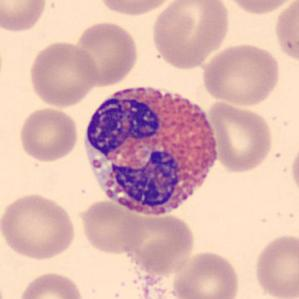Eosinophil: (76, 75, 228, 227)
RBC: (148, 0, 232, 71), (0, 190, 78, 261), (200, 41, 282, 107), (26, 38, 100, 109), (206, 100, 274, 174), (123, 211, 197, 276), (72, 19, 140, 87), (75, 198, 146, 256), (16, 106, 80, 164), (170, 249, 242, 299), (252, 231, 298, 299), (16, 269, 86, 299), (272, 0, 299, 66), (0, 0, 49, 34), (94, 0, 179, 17), (219, 0, 298, 16), (288, 138, 299, 198)
